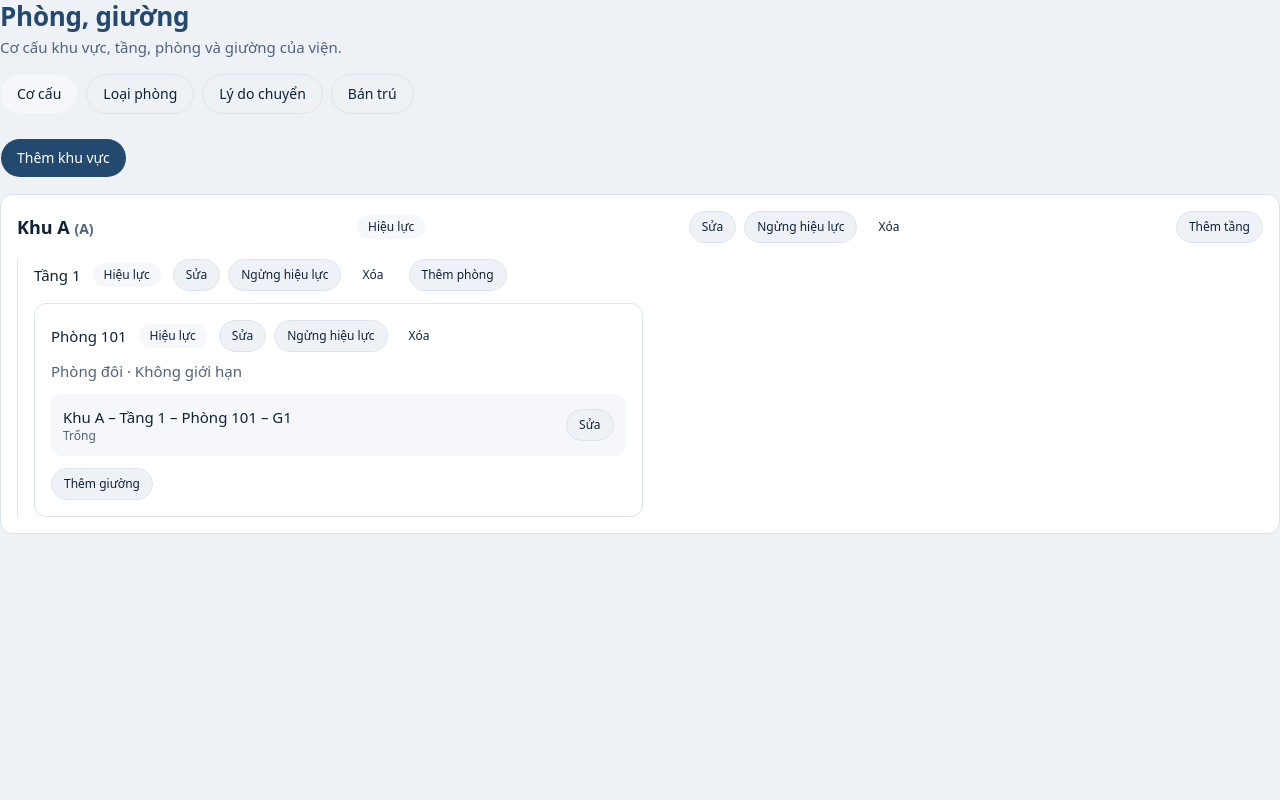
it: FR_021_staleUpdateShowsCurrentValueAndReloadsEtag
Click the button with aria-label "Sửa Khu A": (712, 227) [689,211,736,243]
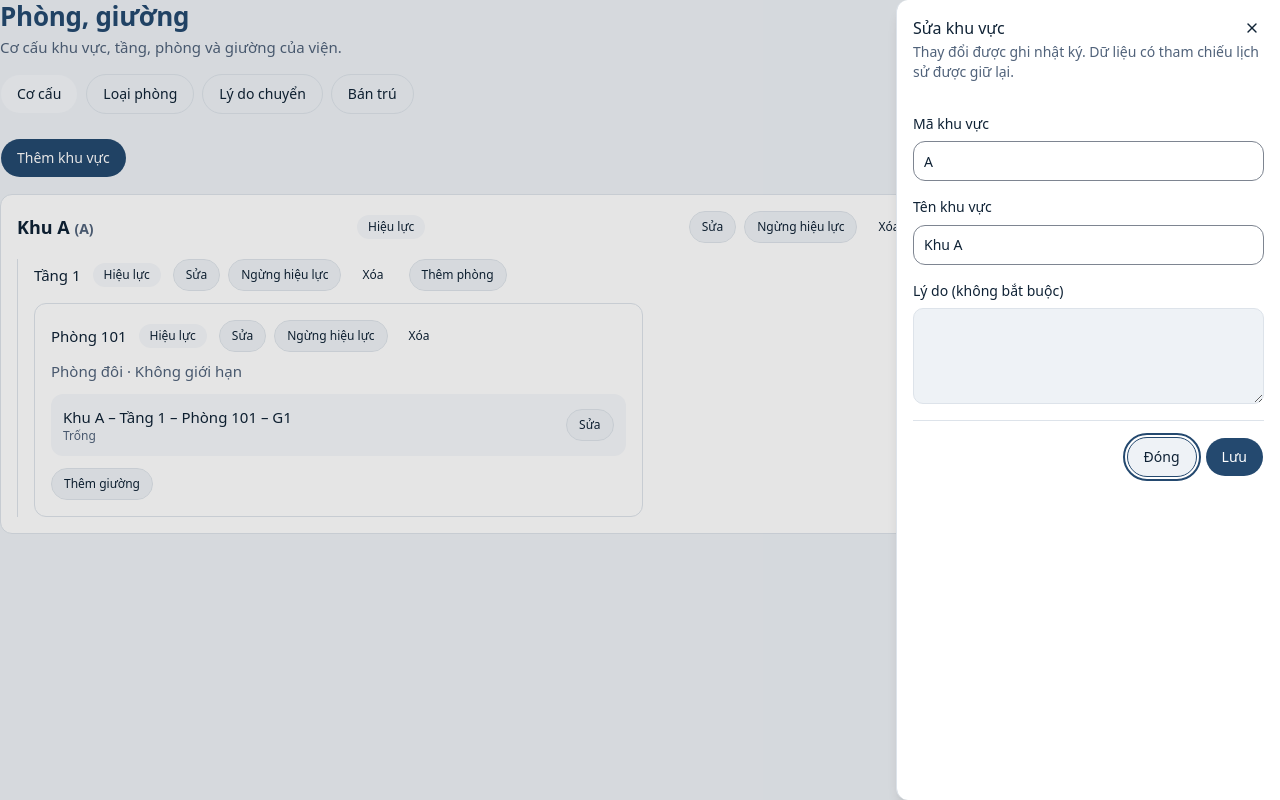
Replace the text in the field labelled "Tên khu vực" with "Tên cũ": (1088, 244) [913,224,1264,264]
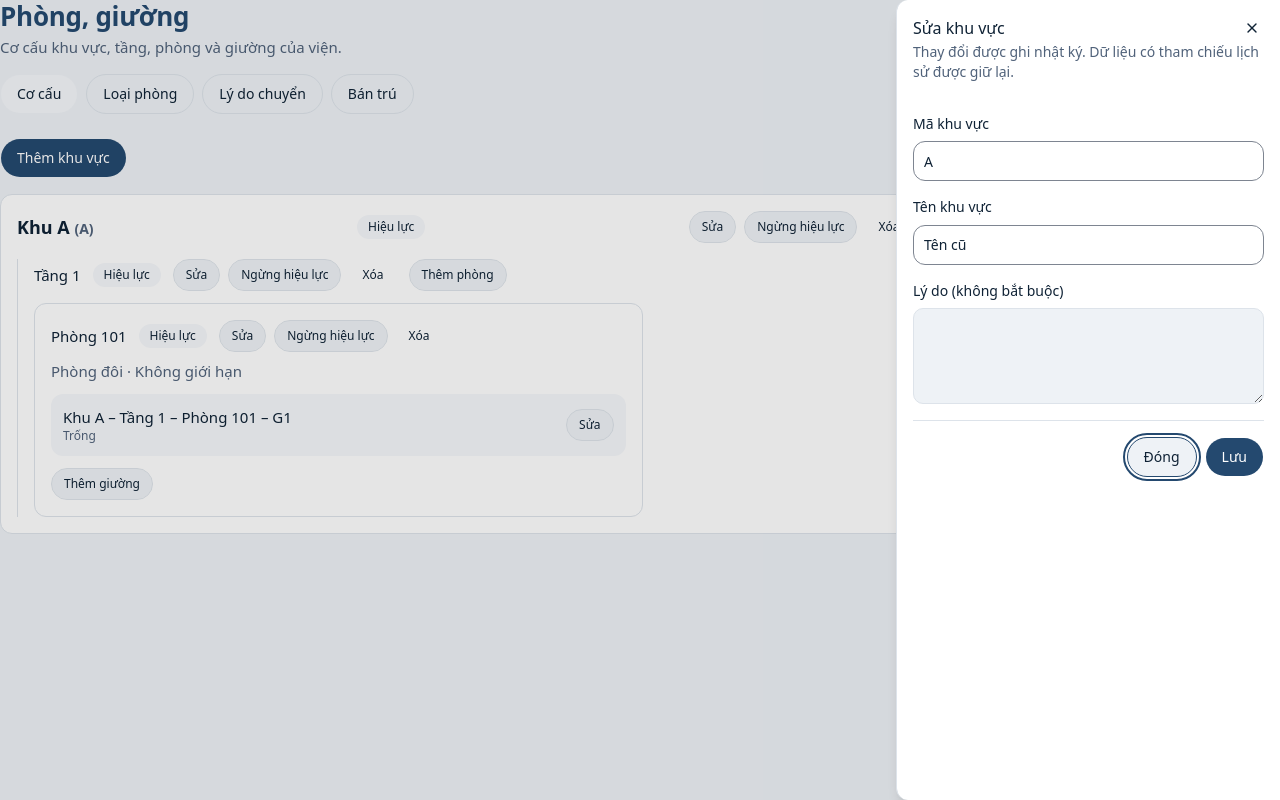
Click the button "Lưu": (1234, 457) [1205,437,1264,477]
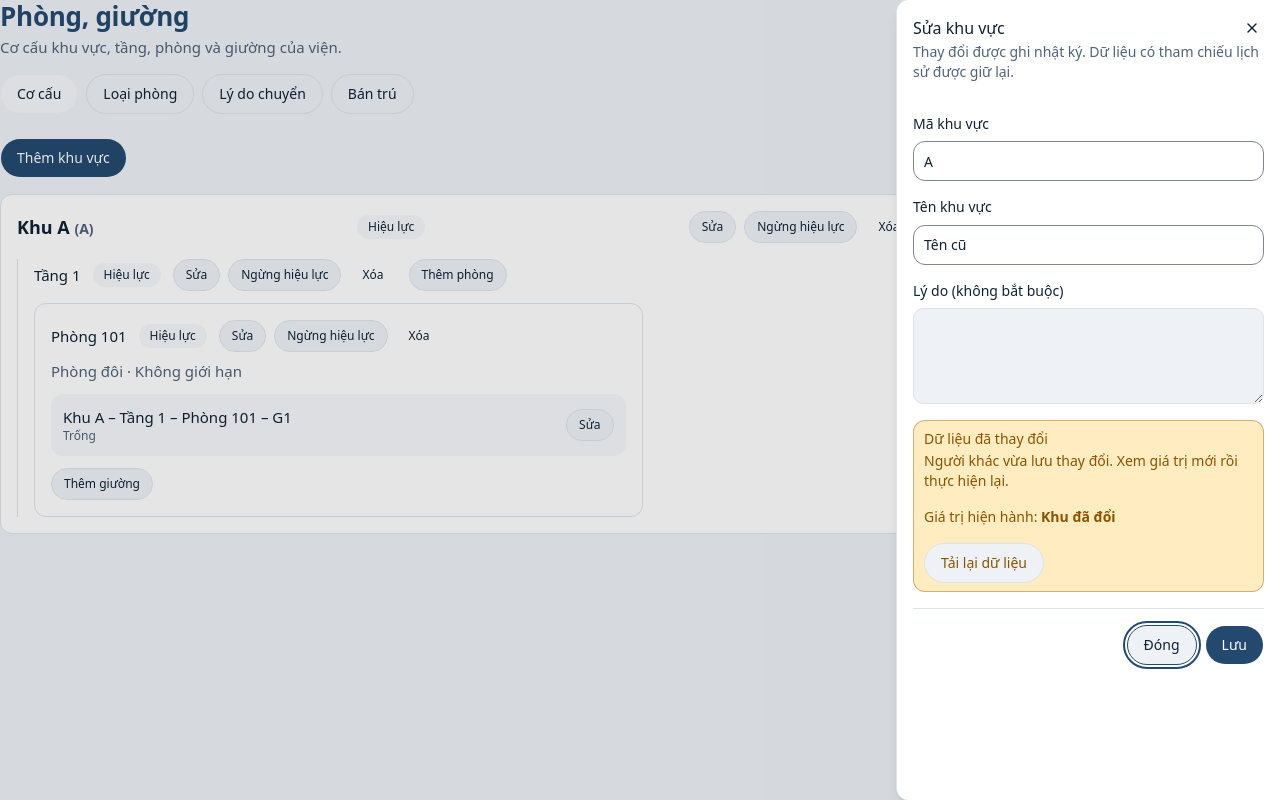
Check: the text "Khu đã đổi" is shown, box [1041,507,1116,526]
Click the button "Tải lại dữ liệu": (984, 563) [924,543,1044,583]
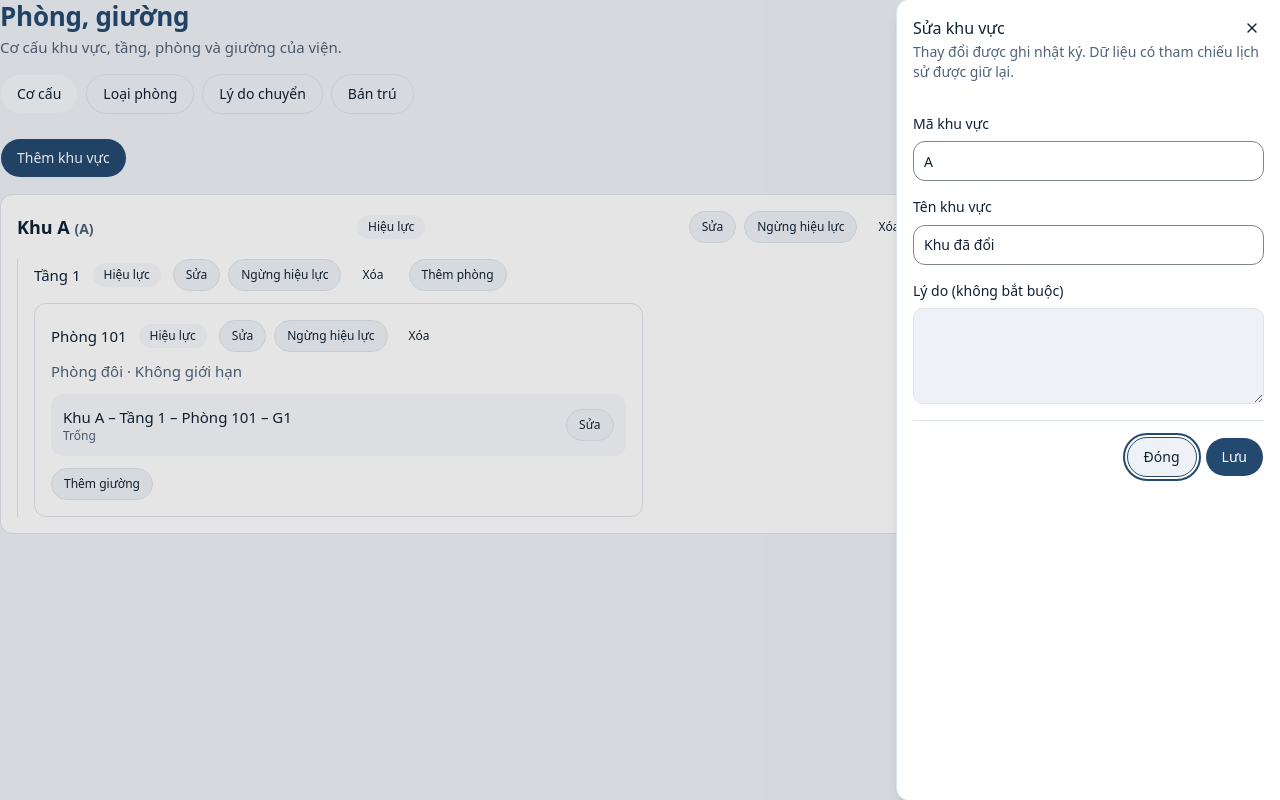
Check: the field labelled "Tên khu vực" holds "Khu đã đổi", box [913,224,1264,264]
